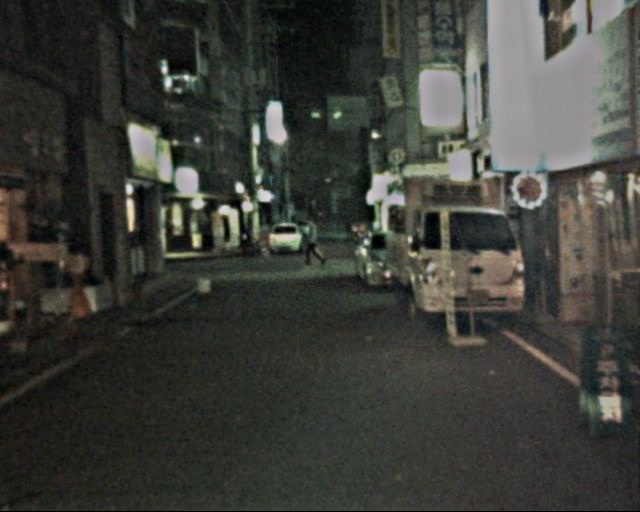person: (298, 213, 323, 270)
